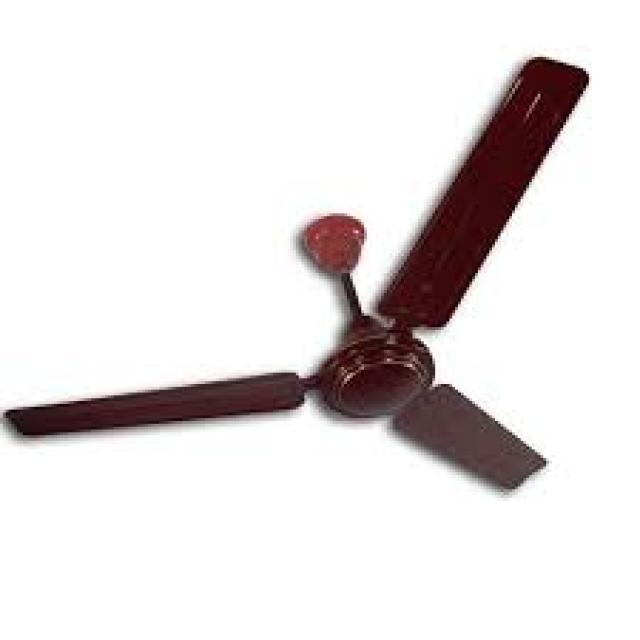fan_off: (8, 54, 588, 500)
